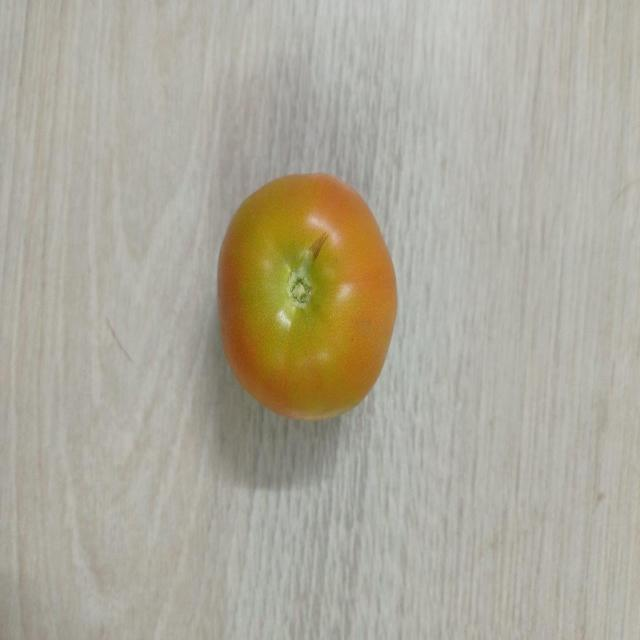Tomato: (214, 166, 400, 424)
